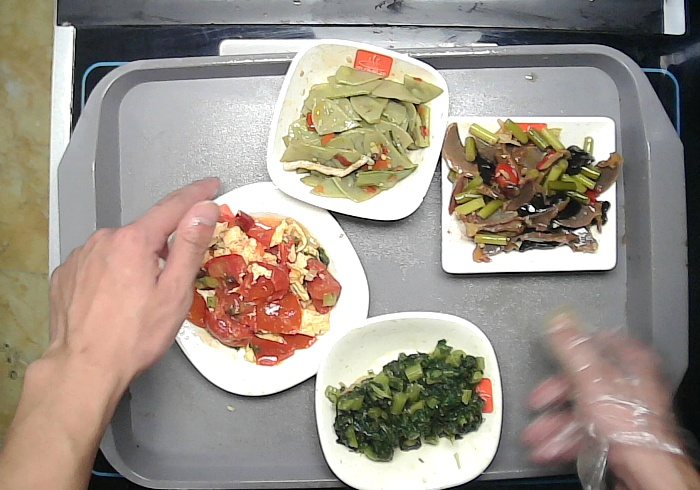SHKJ-Bai_Se_Cai_Die: (309, 309, 505, 490)
SHKJ-Bai_Se_Si_Fang_Cai_Die: (157, 177, 372, 400)
SHKJ-Bai_Se_Xiao_Fang_Die: (263, 37, 451, 224)
SHKJ-Si_Fang_Min: (433, 113, 619, 280)
